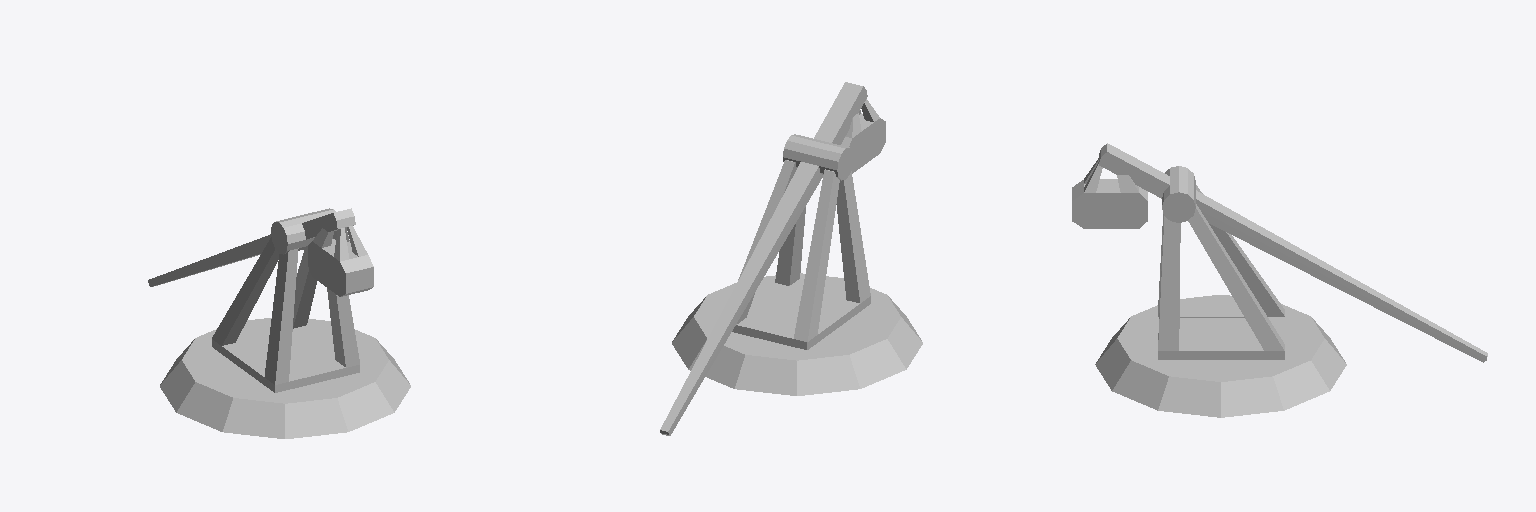
The model's file is static_body.obj.
The picture shows the model from 3 angles: view 1: azimuth 30°, elevation 25°; view 2: azimuth 150°, elevation 25°; view 3: azimuth 270°, elevation 25°; orthographic projection.
Parts seen in each view (by area): view 1: Cube.001_Cube.002; view 2: Cube.001_Cube.002; view 3: Cube.001_Cube.002.
Boxes of the visible parts, <box> form: Cube.001_Cube.002: <box>148,208,410,438</box>; Cube.001_Cube.002: <box>660,82,922,435</box>; Cube.001_Cube.002: <box>1072,143,1487,417</box>.
Bounding box in the file's own units: 8.46 × 8.05 × 13.94.